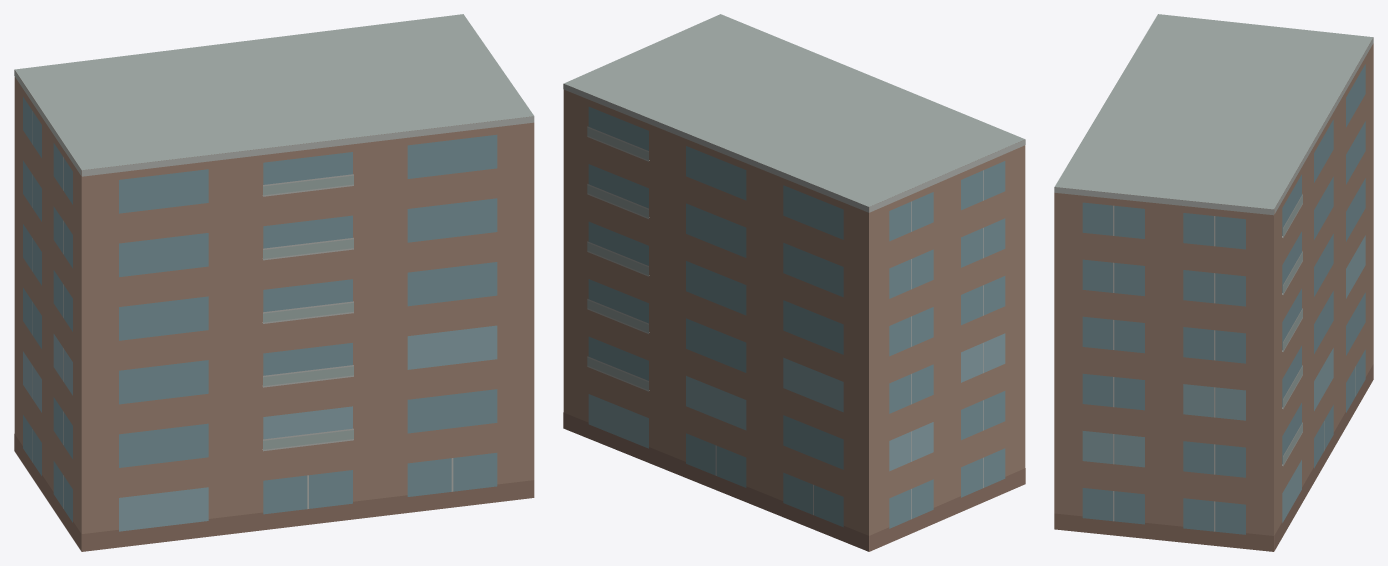
Rendered from survey-upis-32941144.glb.
The picture shows the model from 3 angles, left to right: view 1: azimuth 30°, elevation 25°; view 2: azimuth 150°, elevation 25°; view 3: azimuth 270°, elevation 25°; orthographic projection. The views are drawn at different scales.
Visible parts, largest first — view 1: survey-upis-32941144.tmp; view 2: survey-upis-32941144.tmp; view 3: survey-upis-32941144.tmp.
Part boxes in pixels (x1,y1,x2,y2): survey-upis-32941144.tmp: [14, 14, 534, 551]; survey-upis-32941144.tmp: [563, 14, 1025, 551]; survey-upis-32941144.tmp: [1054, 14, 1373, 551].
Size of the model in its own units: 17.64 by 14.4 by 12.17.
